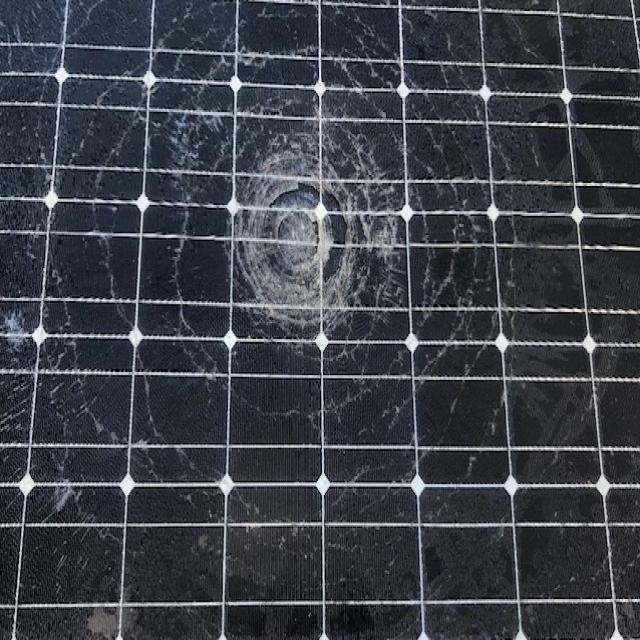Structural Damage: (40, 9, 506, 472), (340, 2, 505, 428), (192, 116, 420, 358), (0, 301, 113, 531), (8, 0, 128, 191), (74, 579, 156, 640)
